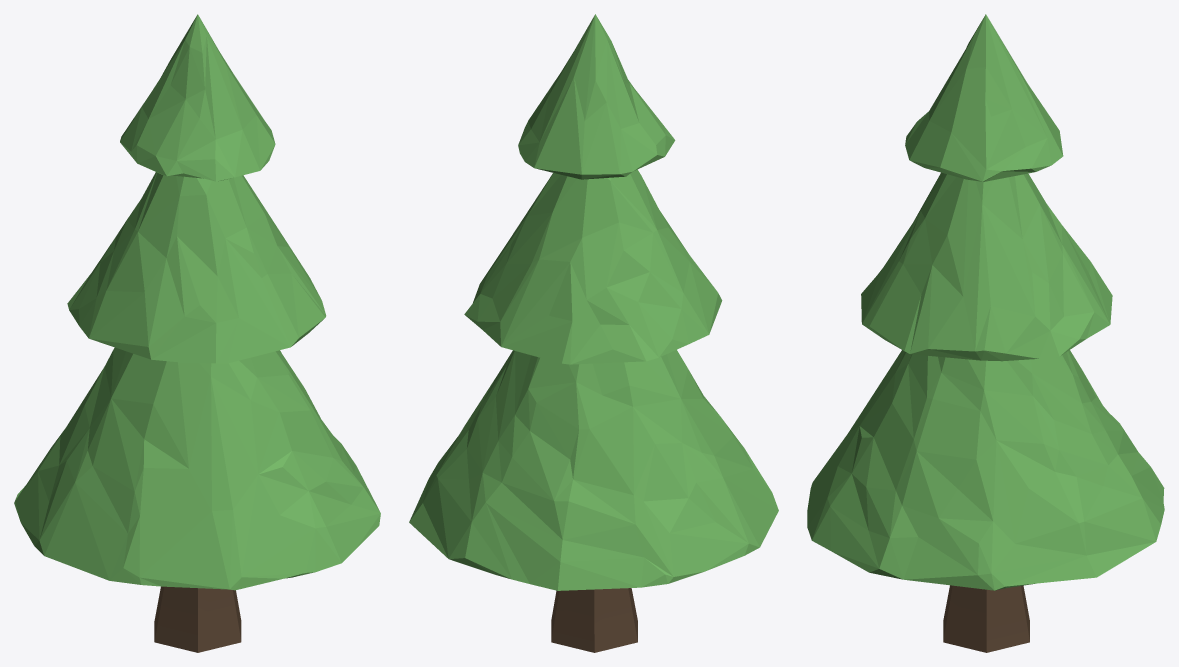
File: Fantasytree3.fbx
3 renders of one model, left to right at view 1: azimuth 30°, elevation 25°; view 2: azimuth 150°, elevation 25°; view 3: azimuth 270°, elevation 25°, orthographic.
Visible parts, largest first — view 1: pCylinder1, pCylinder2; view 2: pCylinder1, pCylinder2; view 3: pCylinder1, pCylinder2.
Part boxes in pixels (bbox=[...]): pCylinder1: bbox=[14, 14, 380, 590]; pCylinder2: bbox=[154, 586, 241, 652]; pCylinder1: bbox=[409, 14, 778, 590]; pCylinder2: bbox=[551, 588, 637, 652]; pCylinder1: bbox=[807, 14, 1164, 590]; pCylinder2: bbox=[943, 585, 1029, 652].
Size of the model in its own units: 1.94 by 3.59 by 1.89.
